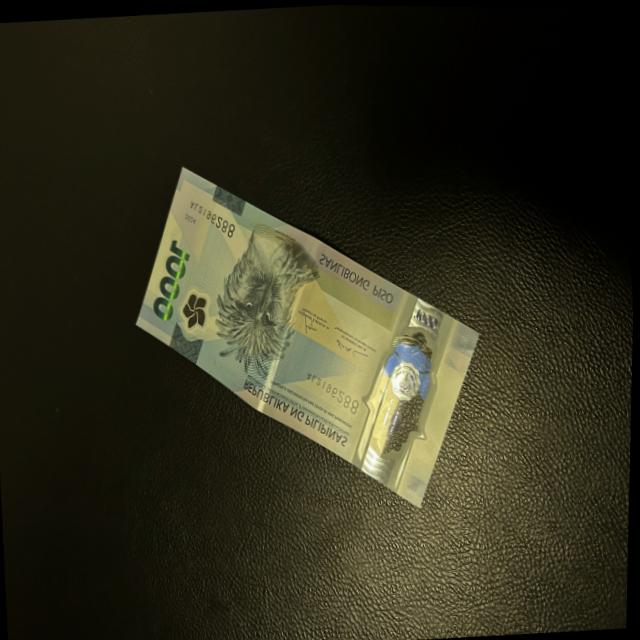clear_window: (361, 308, 440, 470)
eagle: (215, 229, 315, 356)
sampaguita: (183, 288, 213, 330)
